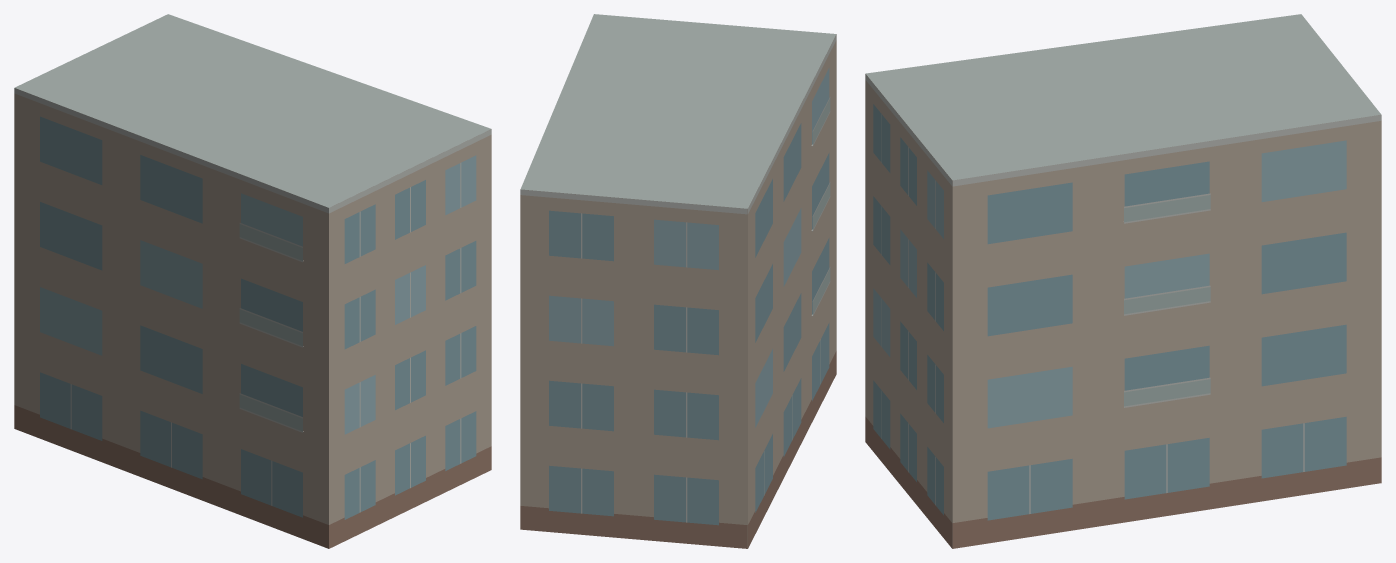
File: survey-upis-32965311.glb
3 views of the same model, side by side, from view 1: azimuth 30°, elevation 25°; view 2: azimuth 150°, elevation 25°; view 3: azimuth 270°, elevation 25° (orthographic). The views are drawn at different scales.
Parts seen in each view (by area): view 1: survey-upis-32965311.tmp; view 2: survey-upis-32965311.tmp; view 3: survey-upis-32965311.tmp.
Part boxes in pixels (bbox=[...]): survey-upis-32965311.tmp: bbox=[14, 14, 491, 548]; survey-upis-32965311.tmp: bbox=[520, 14, 836, 548]; survey-upis-32965311.tmp: bbox=[865, 14, 1381, 548].
Size of the model in its own units: 14.32 by 14.76 by 18.75.
